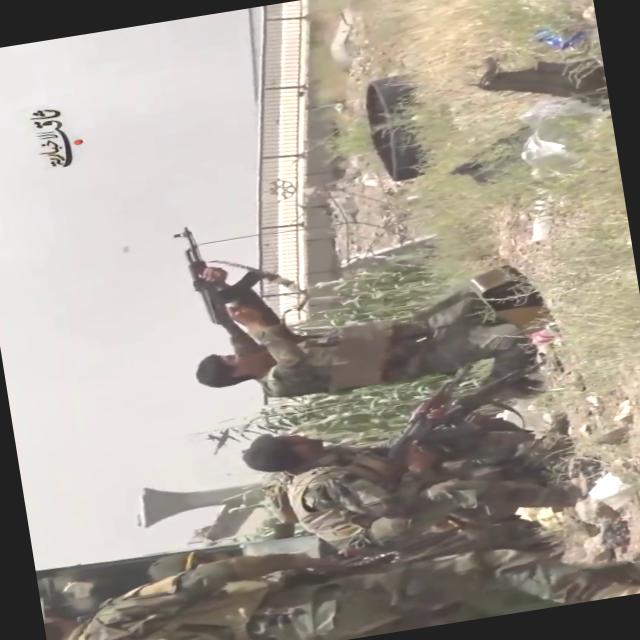long weapon: (168, 206, 283, 372)
